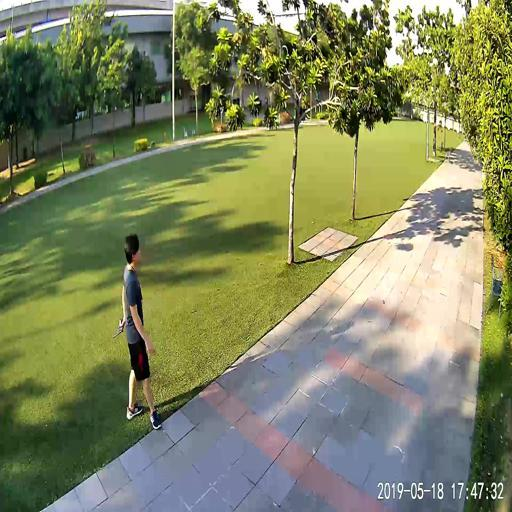Handgun: (111, 316, 123, 338)
